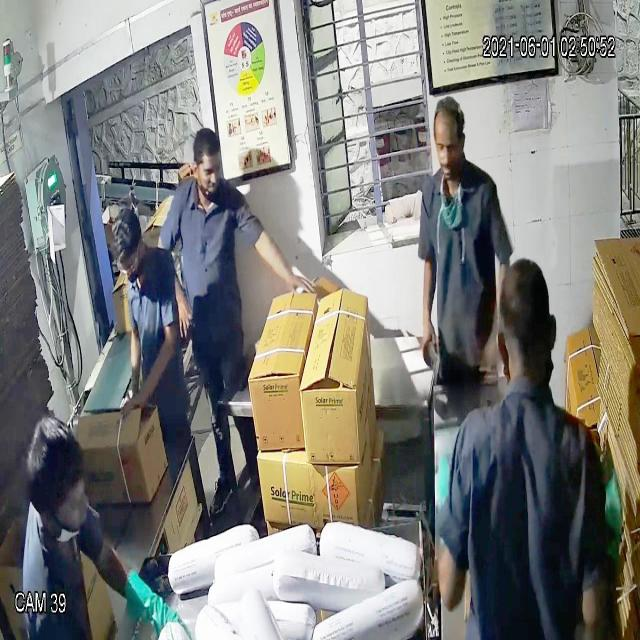glasses: (114, 247, 146, 285)
no-glass: (190, 158, 232, 190), (430, 132, 469, 164)
